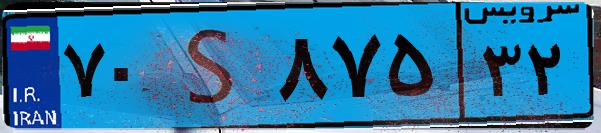0: (110, 28, 158, 98)
2: (525, 38, 570, 115)
3: (475, 38, 525, 113)
5: (385, 28, 445, 110)
7: (330, 28, 385, 110), (57, 26, 110, 100)
8: (270, 28, 330, 110)
S: (158, 12, 270, 120)
